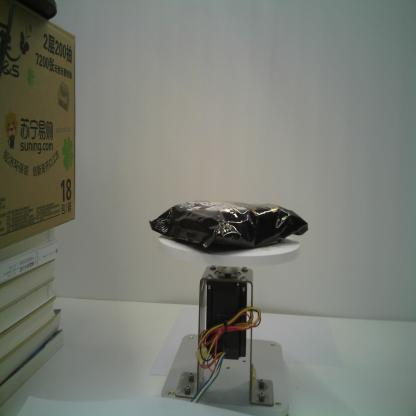Instant Noodles: (146, 197, 308, 256)
